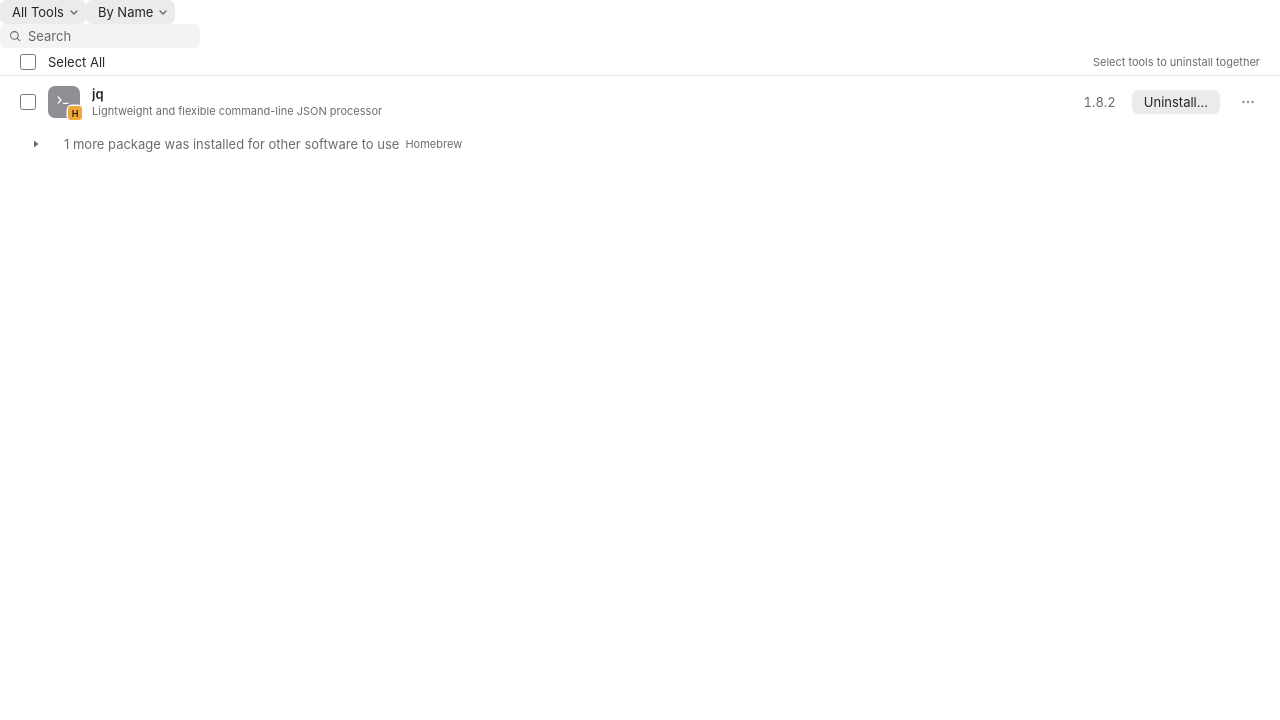
Scenario: InstalledPage › gives the focus back to the row's Uninstall when its confirmation is cancelled
The image size is (1280, 720).
Check: the text "jq" is shown, box [92, 86, 104, 102]
Click the button "Uninstall…". click: [1176, 102]
box: [1132, 90, 1220, 114]
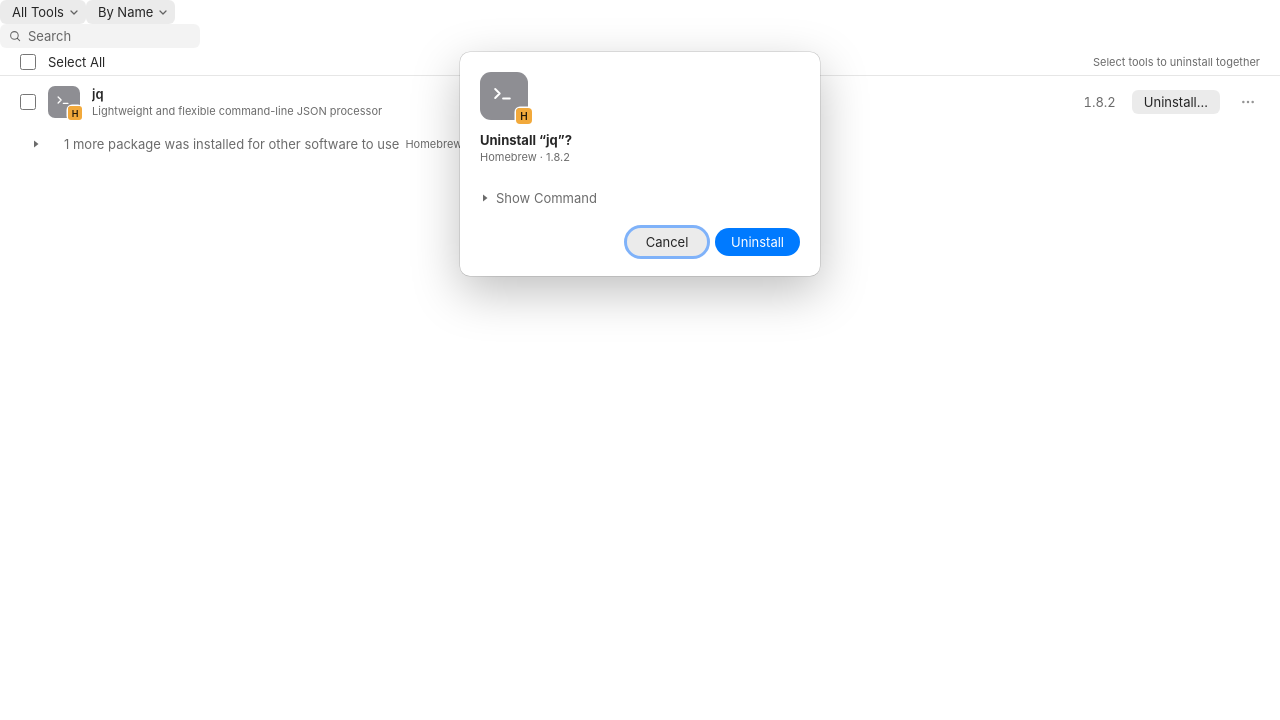
Click the button "Cancel". click: [667, 242]
box: [627, 228, 707, 256]
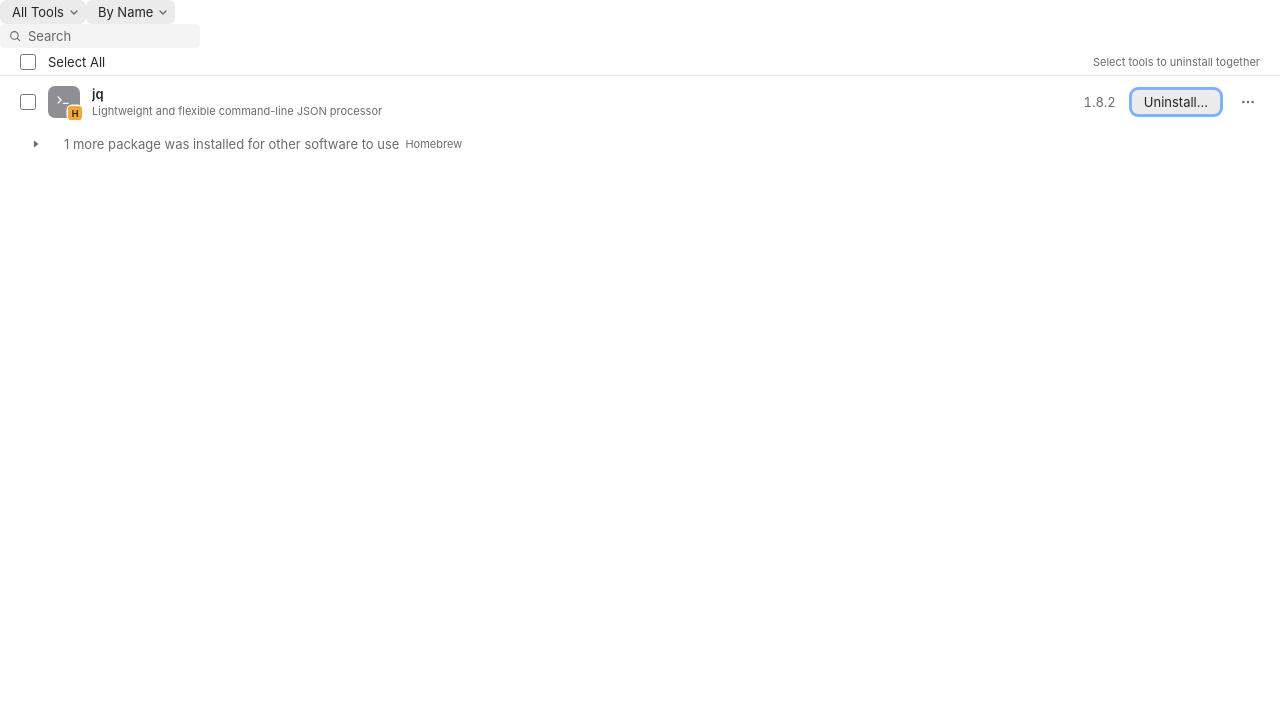
Check: the dialog is gone
